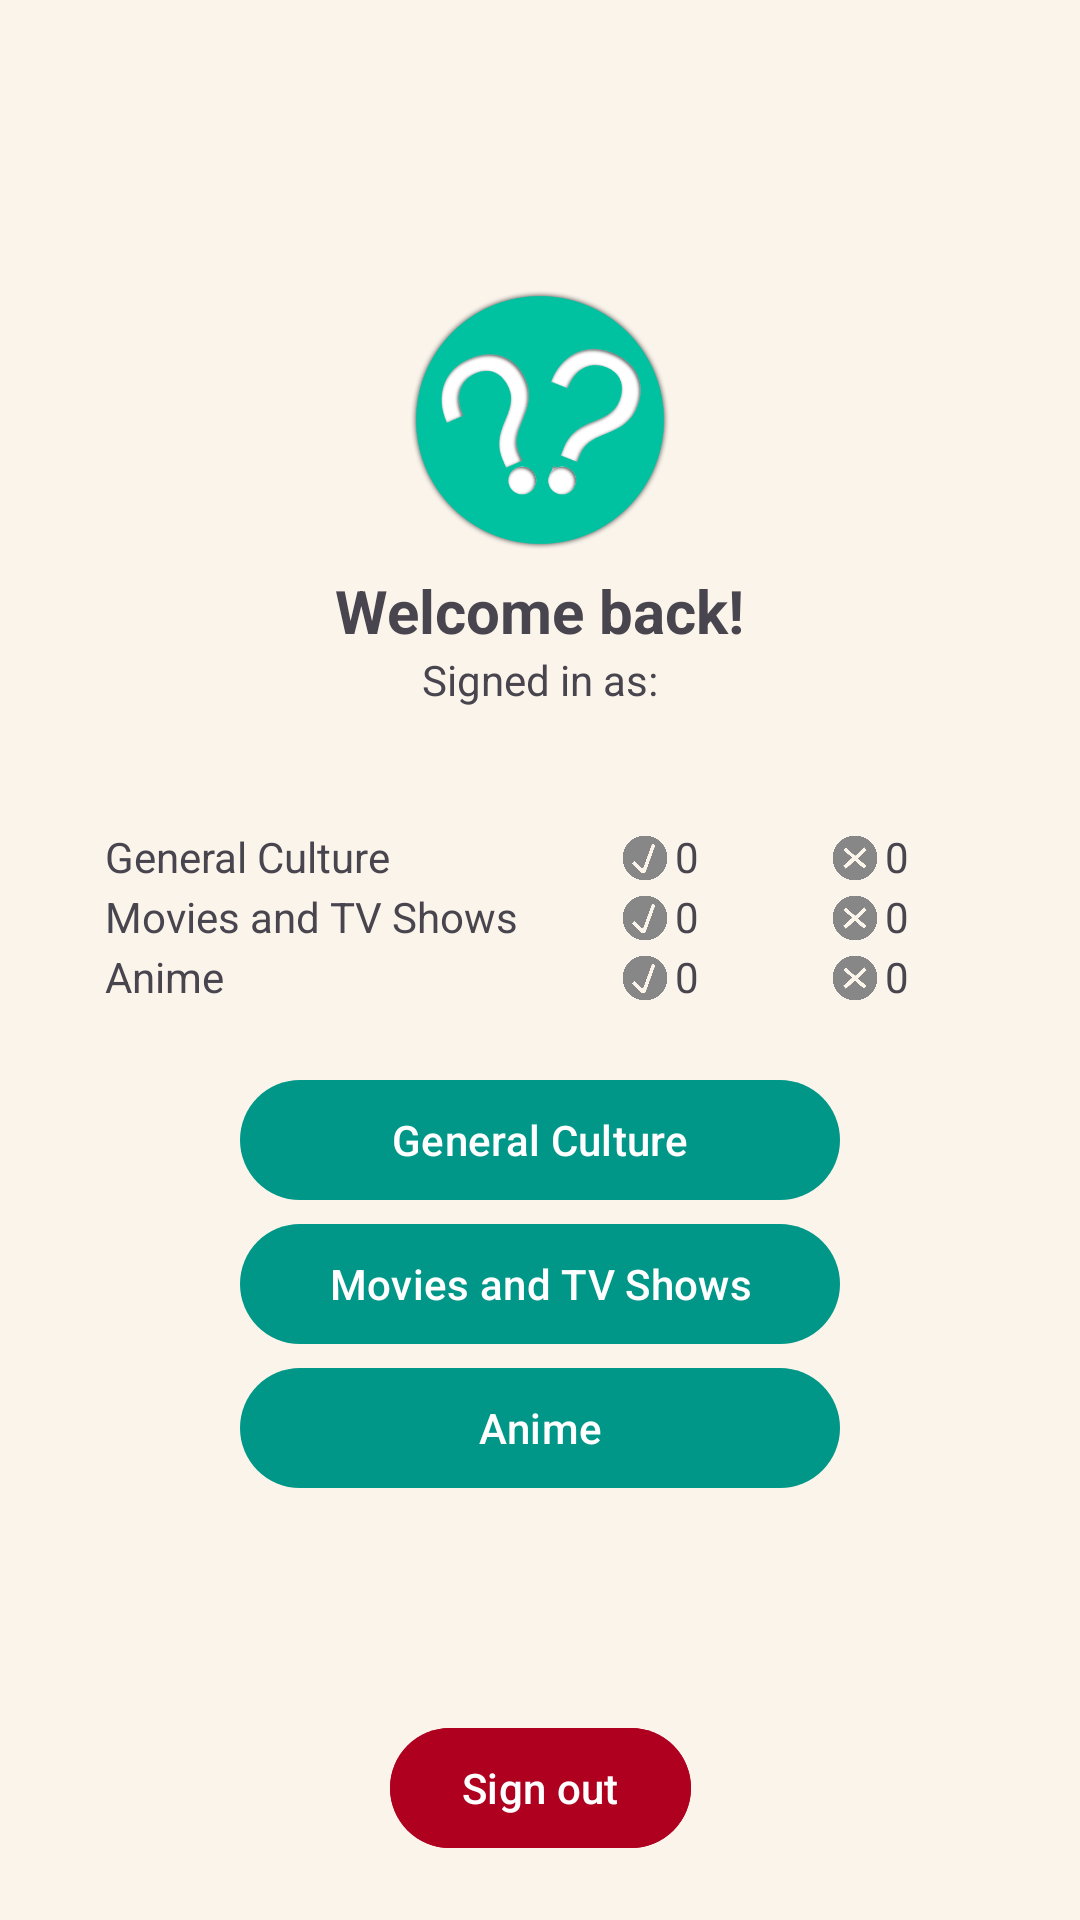

Icon bounding boxes for this 1080×1920 phone screenshot, format (x1, y1, x2, y2):
correct: (623, 836, 667, 880), (623, 896, 667, 940), (623, 956, 667, 1000)
emblem: (413, 293, 667, 547)
false: (833, 836, 877, 880), (833, 896, 877, 940), (833, 956, 877, 1000)
